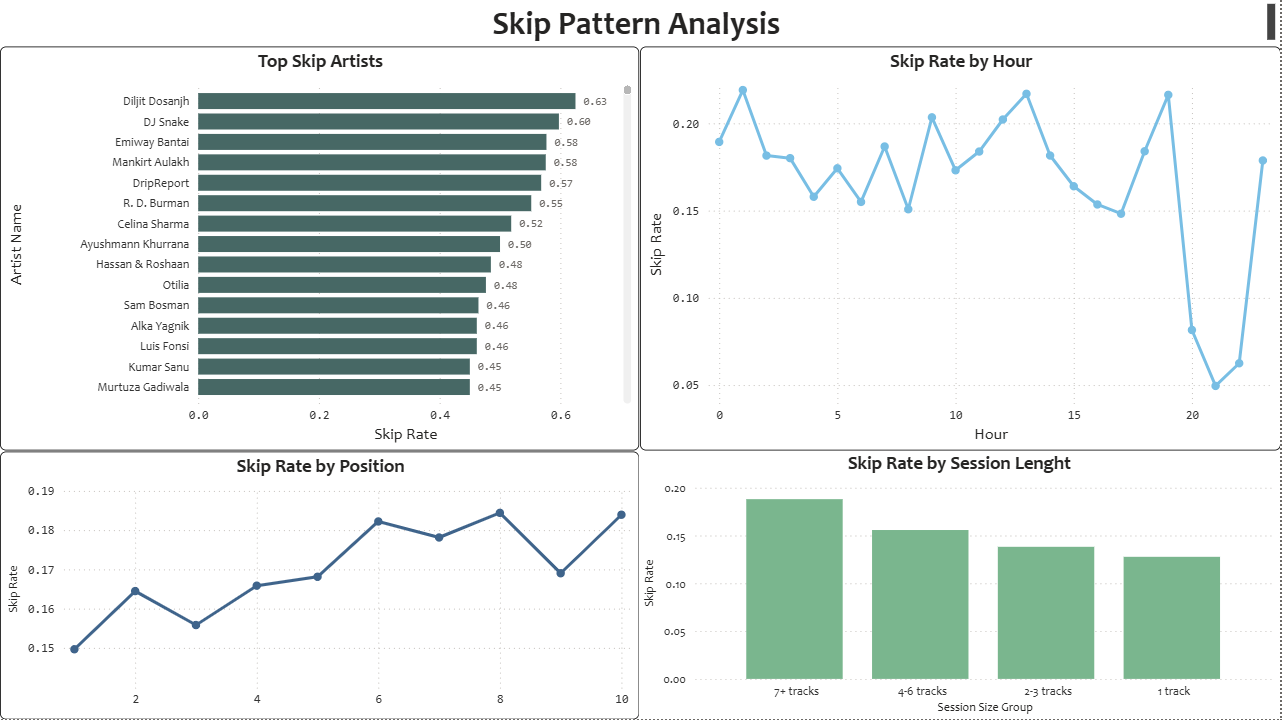

This screenshot's page, from the dashboard's own definition file:
{"tool":"powerbi","page":{"name":"Skip Pattern Analysis","canvas":[1280,720],"ordinal":1},"visuals":[{"type":"textbox","box":[0,0,1280,47.5],"z":0},{"type":"clusteredBarChart","title":"Top Skip Artists","fields":{"Category":["clean_spotify_data.artist_name"],"Y":["clean_spotify_data.Skip Rate (Min 20 Plays)"]},"box":[0,47.9,639.4,404.2],"z":1000},{"type":"lineChart","title":"Skip Rate by Hour","fields":{"Y":["Avg(clean_spotify_data.skipped)"],"Category":["clean_spotify_data.hour"]},"box":[639.4,47.9,640.8,404.2],"z":2000},{"type":"lineChart","title":"Skip Rate by Position","fields":{"Category":["clean_spotify_data.track_position_in_session"],"Y":["clean_spotify_data.Skipped Rate"]},"box":[0,452.1,639.4,267.6],"z":3000},{"type":"clusteredColumnChart","title":"Skip Rate by Session Lenght","fields":{"Y":["clean_spotify_data.Skipped Rate"],"Category":["clean_spotify_data.Session Size Group"]},"box":[639,452,641,268],"z":4000}]}

Visuals, with their boxes in screenshot pixels (x1, y1, x2, y2), scaled from the page's 1280x720 canvas onto the 1283x720 screenshot:
textbox: crop(0, 0, 1282, 48)
"Top Skip Artists" clusteredBarChart: crop(0, 48, 641, 452)
"Skip Rate by Hour" lineChart: crop(641, 48, 1282, 452)
"Skip Rate by Position" lineChart: crop(0, 452, 641, 719)
"Skip Rate by Session Lenght" clusteredColumnChart: crop(640, 452, 1282, 719)
